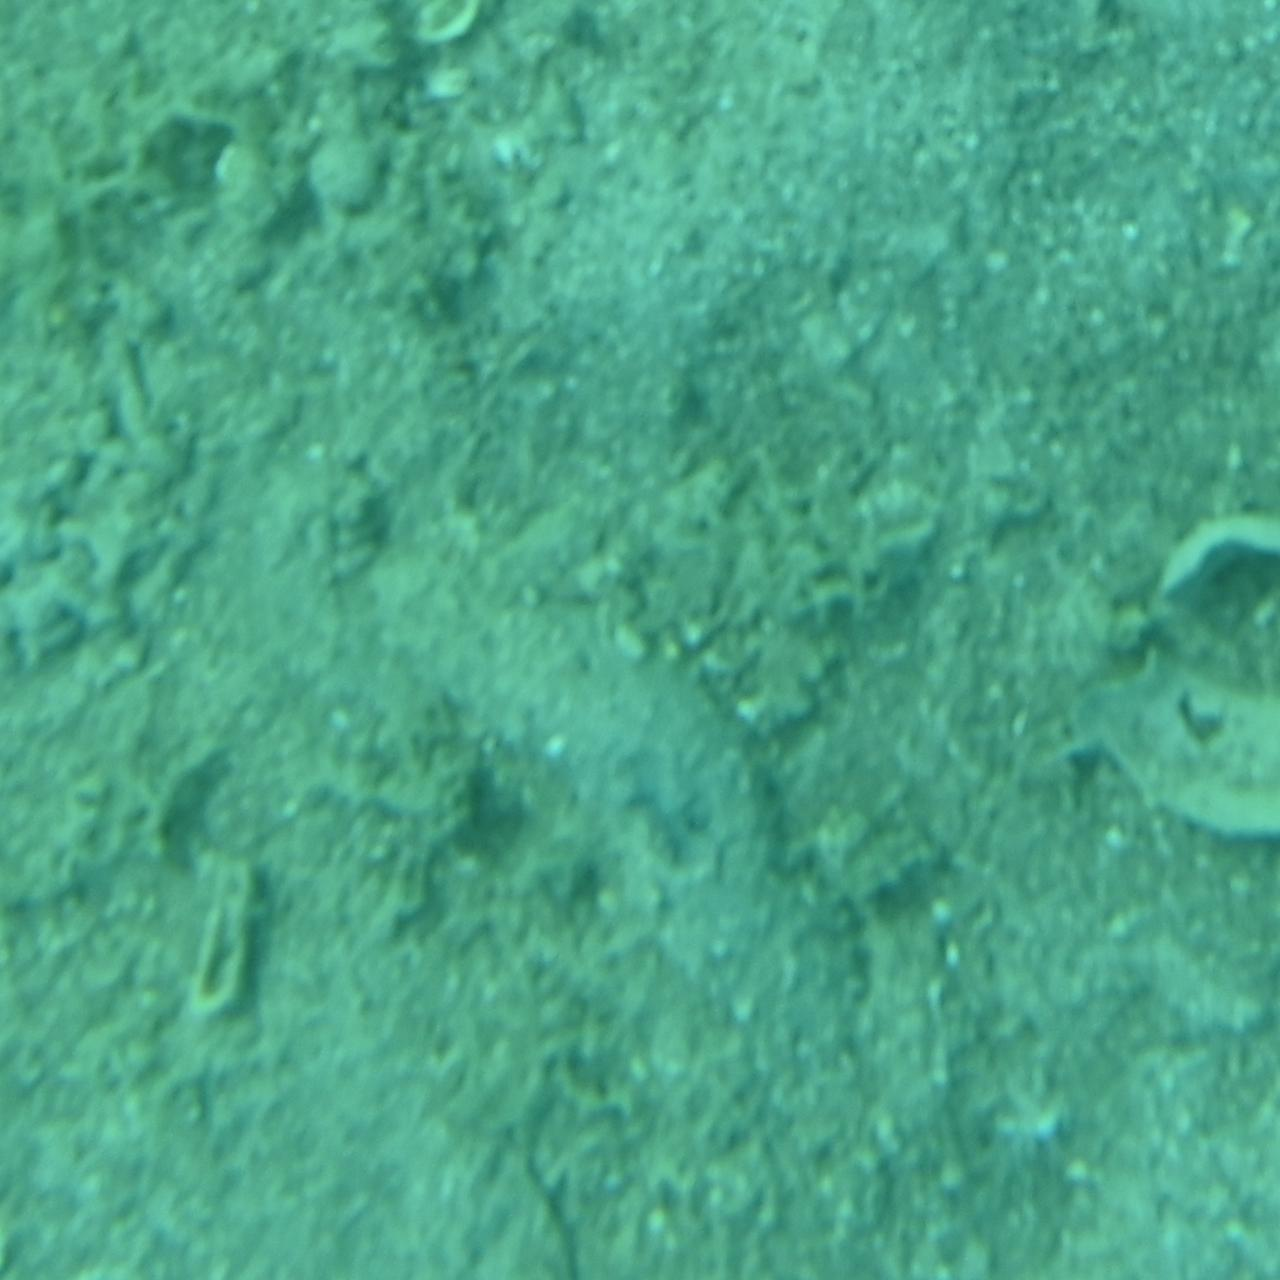Holothuria tubulosa: (378, 515, 902, 1118)
